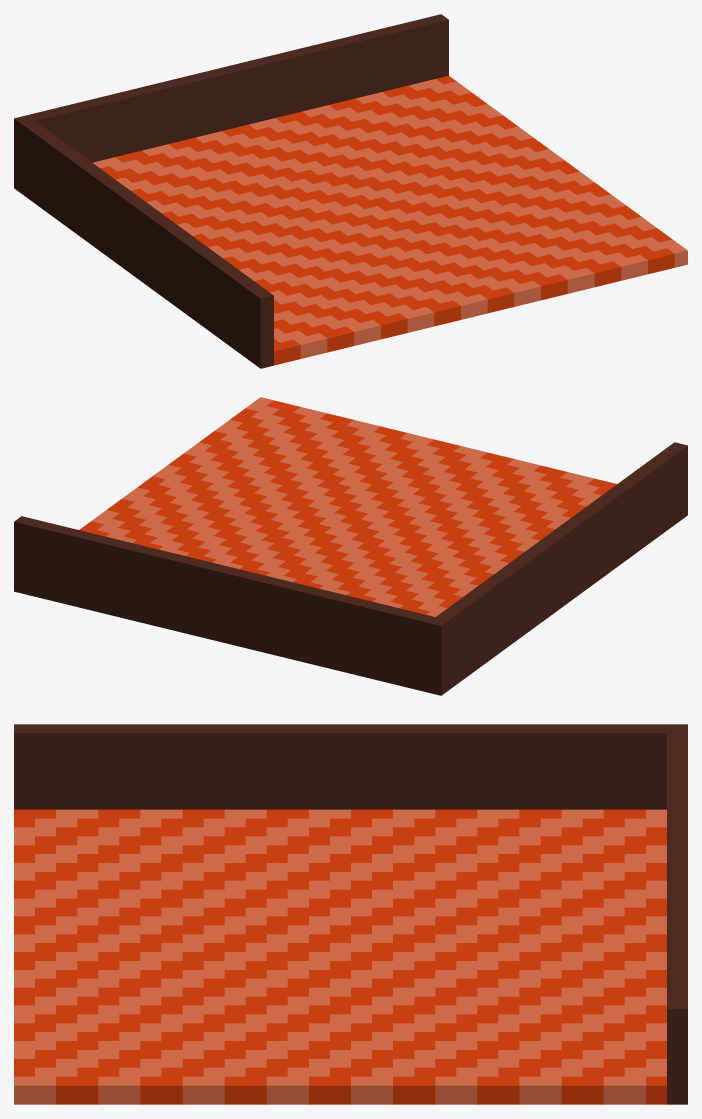
The model's file is Blockers Bone Map 2-6.obj.
The picture shows the model from 3 angles, top to bottom: view 1: azimuth 30°, elevation 25°; view 2: azimuth 150°, elevation 25°; view 3: azimuth 270°, elevation 25°; orthographic projection. The views are drawn at different scales.
Size of the model in its own units: 3.2 by 0.5 by 3.2.
Materials: 1 (1 with a texture image).
